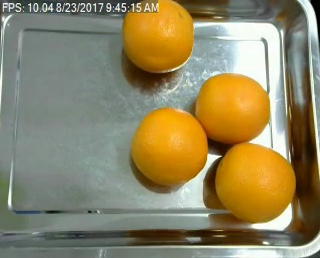Orange: (215, 141, 296, 222), (129, 107, 208, 185), (195, 72, 271, 144), (122, 1, 196, 72)
